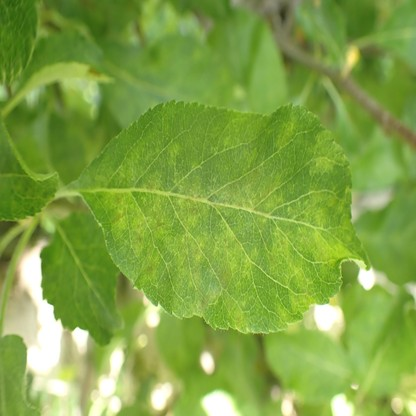scab: (111, 111, 360, 331)
